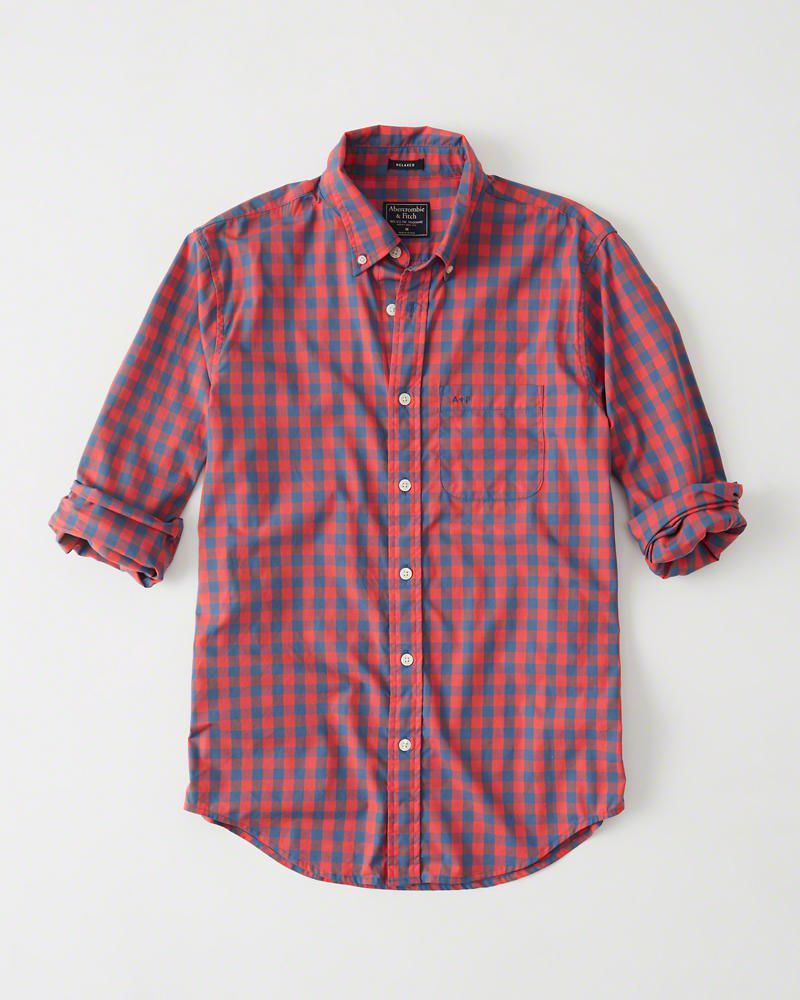teeshirt: (49, 107, 764, 901)
